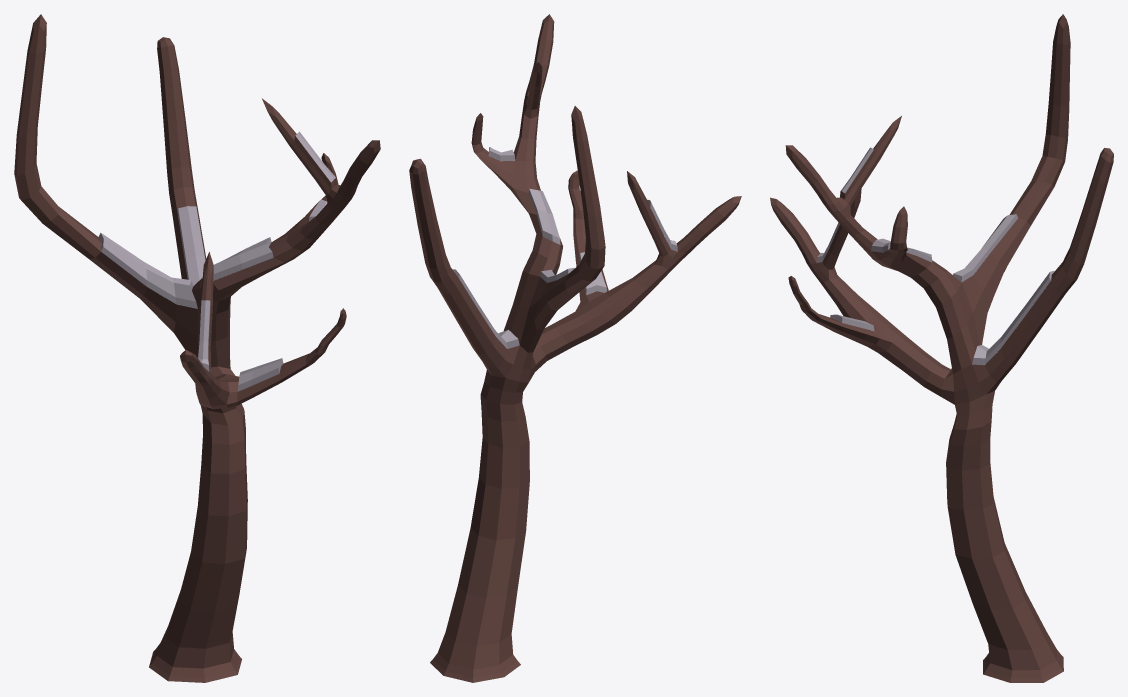
Rendered from CommonTree_Dead_Snow_5.glb.
3 renders of one model, left to right at view 1: azimuth 30°, elevation 25°; view 2: azimuth 150°, elevation 25°; view 3: azimuth 270°, elevation 25°, orthographic. The views are drawn at different scales.
Parts seen in each view (by area): view 1: CommonTree; view 2: CommonTree; view 3: CommonTree.
Boxes of the visible parts, x1,y1,x2,y2 form: CommonTree: (14,14,380,682); CommonTree: (409,14,741,682); CommonTree: (770,14,1113,682).
Bounding box in the file's own units: 0.8444 × 2.3 × 1.2.
